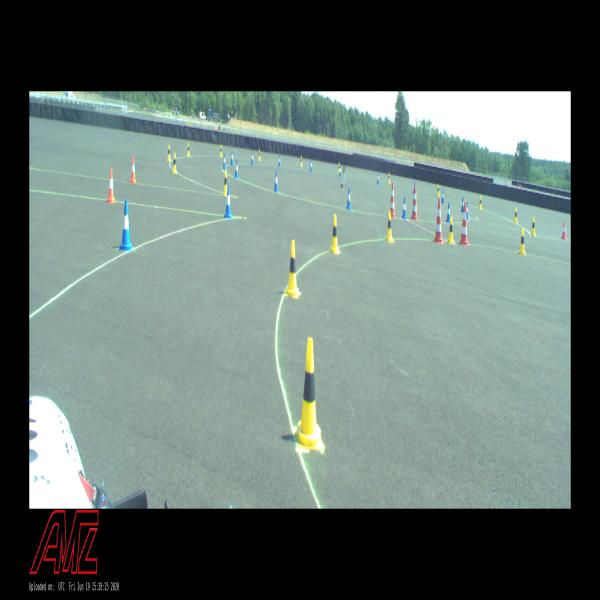blue_cone: (119, 200, 133, 251), (224, 185, 232, 219), (346, 187, 351, 210), (274, 171, 279, 192), (402, 197, 406, 219), (446, 203, 450, 223), (234, 160, 238, 178), (222, 153, 226, 170), (230, 151, 234, 165), (441, 189, 444, 204), (467, 201, 469, 220), (251, 152, 254, 164), (278, 155, 281, 167), (339, 165, 342, 177), (461, 197, 463, 212), (413, 180, 415, 194), (377, 172, 379, 185), (310, 160, 312, 171)
large_orange_cone: (458, 202, 470, 247), (433, 198, 444, 244), (411, 186, 418, 220), (390, 182, 395, 217)
orange_cone: (106, 169, 116, 203), (130, 157, 137, 183), (561, 222, 566, 239)
yellow_cone: (295, 337, 323, 449), (286, 240, 299, 298), (331, 215, 340, 254), (386, 211, 393, 242), (519, 228, 526, 255), (448, 217, 454, 243), (173, 152, 178, 174), (223, 170, 227, 195), (531, 217, 536, 236), (167, 144, 171, 161), (514, 207, 518, 223), (478, 196, 482, 209), (436, 184, 440, 196), (187, 142, 190, 157), (258, 149, 261, 161), (300, 156, 303, 166), (220, 145, 222, 157), (388, 172, 390, 183), (338, 162, 340, 172)
